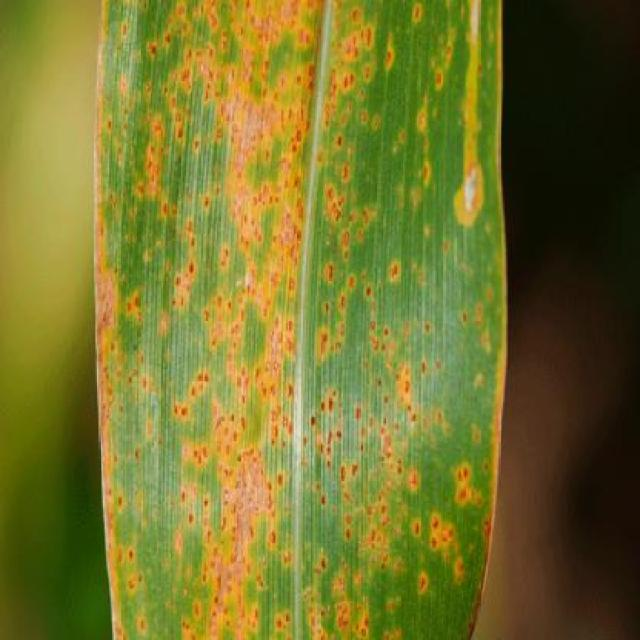Corn_Rust: (89, 3, 514, 640)
